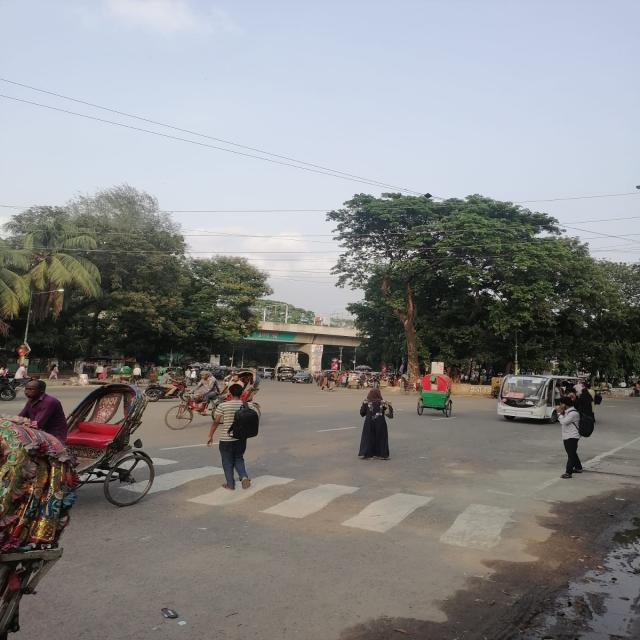person: (207, 382, 259, 491), (358, 388, 393, 460)
